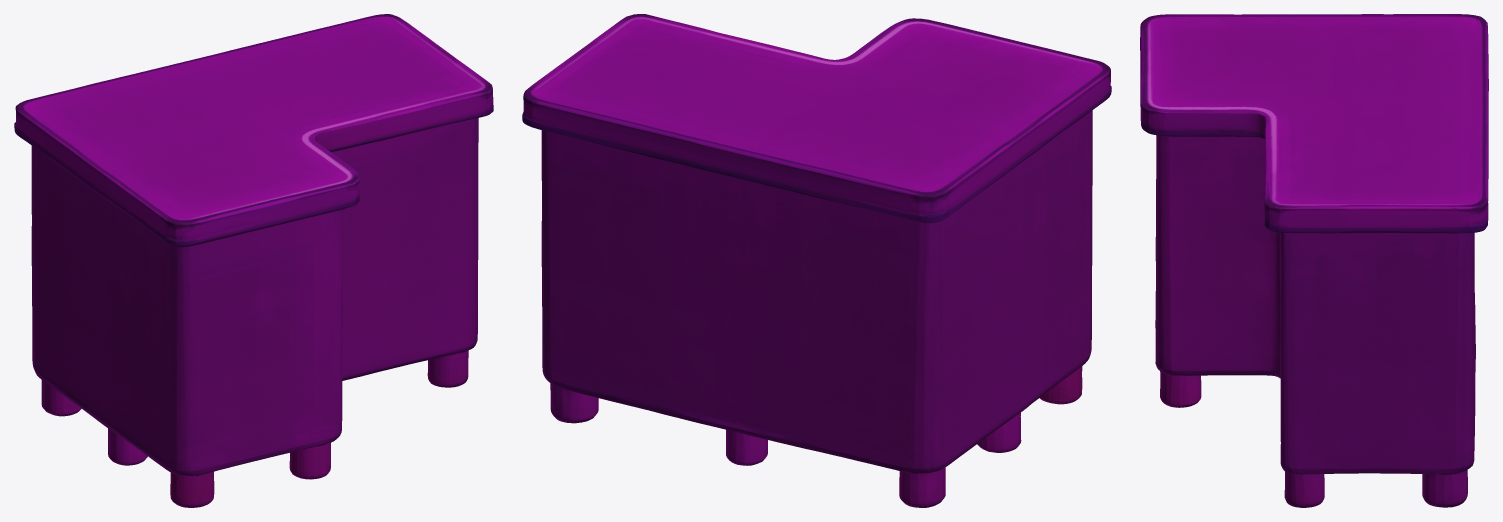
3 renders of one model, left to right at view 1: azimuth 30°, elevation 25°; view 2: azimuth 150°, elevation 25°; view 3: azimuth 270°, elevation 25°, orthographic. The views are drawn at different scales.
Visible parts, largest first — view 1: world; view 2: world; view 3: world.
Part boxes in pixels (x1,y1,x2,y2): world: (14,14,493,507); world: (522,14,1111,507); world: (1140,14,1488,507).
Bounding box in the file's own units: 100 × 74.37 × 75.93.
Materials: 1 (1 with a texture image).
